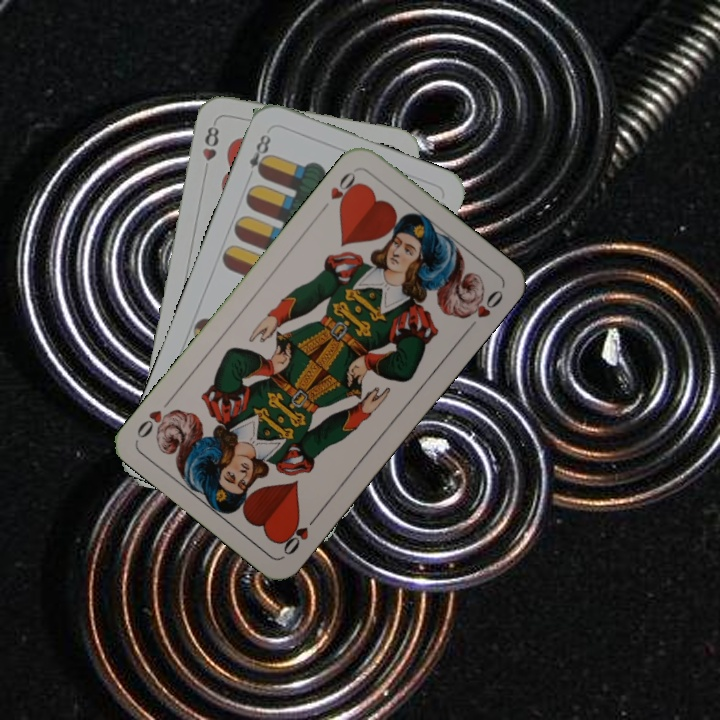E8: (243, 130, 274, 183)
H8: (198, 122, 222, 164)
HO: (316, 167, 363, 215), (276, 509, 322, 558)
